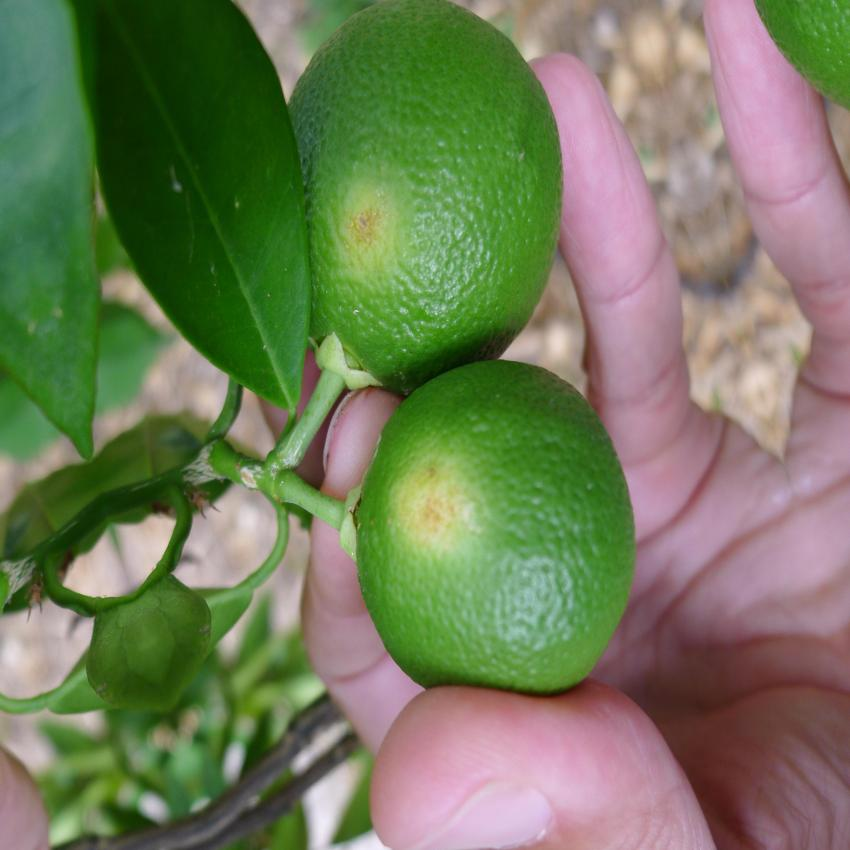Mal estado: (268, 10, 578, 427), (321, 335, 642, 707)
